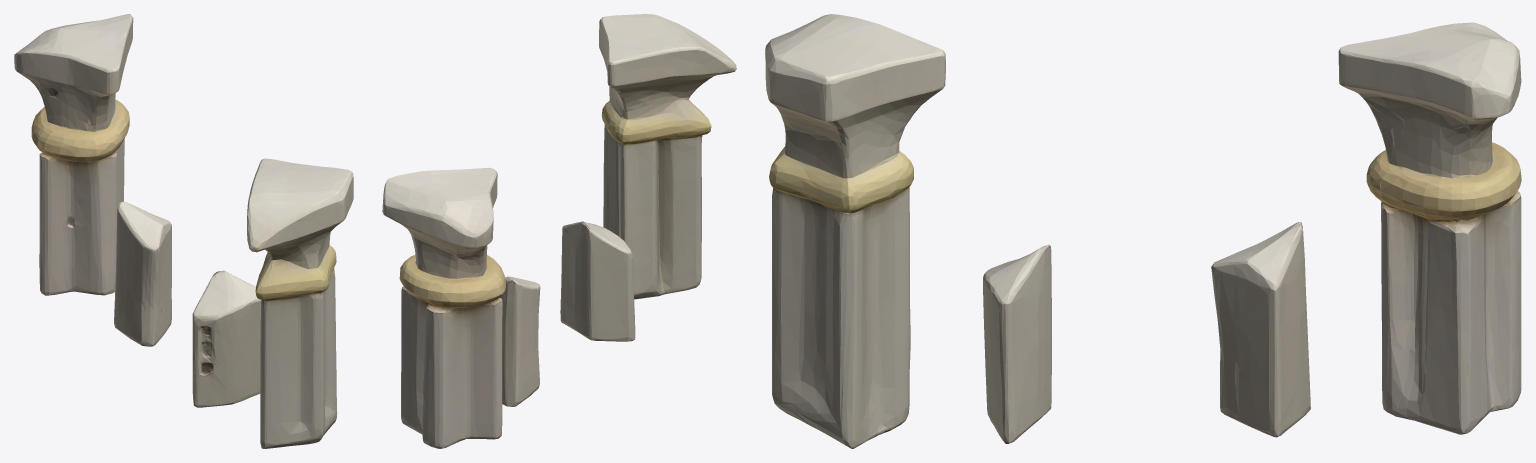
The model's file is pillars_clouds.glb.
3 views of the same model, side by side, from view 1: azimuth 30°, elevation 25°; view 2: azimuth 150°, elevation 25°; view 3: azimuth 270°, elevation 25° (orthographic). The views are drawn at different scales.
Parts seen in each view (by area): view 1: world; view 2: world; view 3: world.
Part boxes in pixels (x1,y1,x2,y2): world: (14, 14, 353, 448); world: (382, 14, 736, 448); world: (765, 14, 1521, 448).
Size of the model in its own units: 0.2706 by 0.5579 by 0.9997.
Materials: 1 (1 with a texture image).
